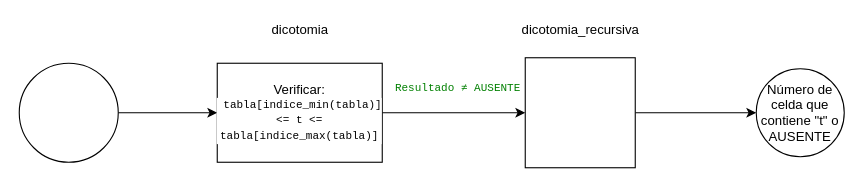
The diagram is 864 pixels wide and 187 high, and some of its shapes have lost their labels. Each missing label, with the centre of its shape:
Buscar: Índice "t" en tabla: [579,112]
TABLA: [68,112]
